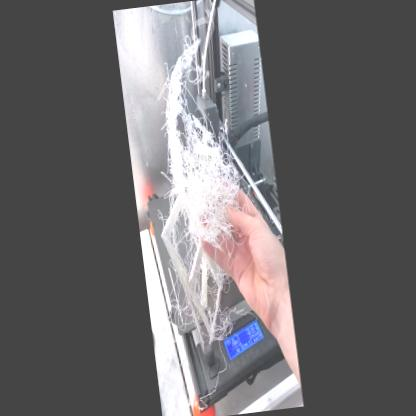fail: (168, 107, 241, 249), (147, 37, 204, 113), (193, 269, 238, 343), (162, 291, 194, 337)
